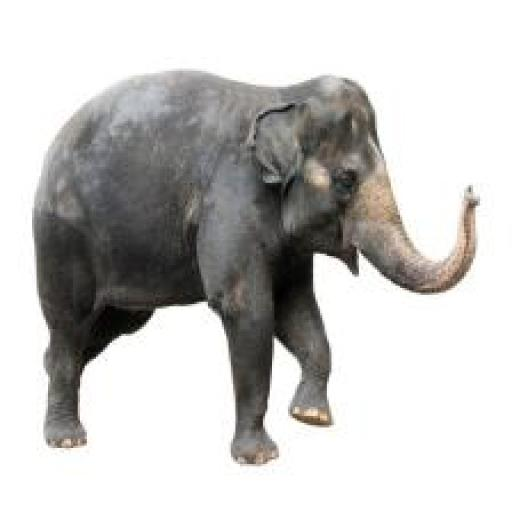Elephant: (33, 70, 478, 464)
